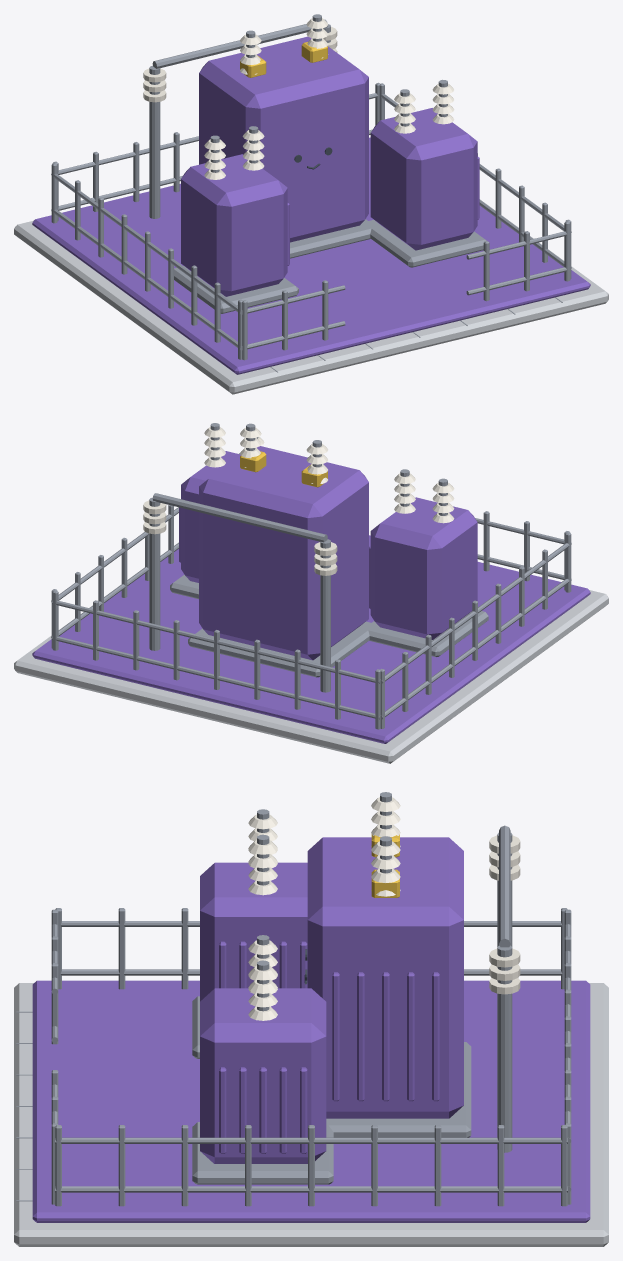
The model's file is electrical.glb.
3 views of the same model, one above another, from view 1: azimuth 30°, elevation 25°; view 2: azimuth 150°, elevation 25°; view 3: azimuth 270°, elevation 25° (orthographic). The views are drawn at different scales.
Parts seen in each view (by area): view 1: electrical; view 2: electrical; view 3: electrical.
Part boxes in pixels (x1=…): electrical: x1=14, y1=14, x2=608, y2=394; electrical: x1=14, y1=423, x2=608, y2=763; electrical: x1=14, y1=792, x2=608, y2=1246.
Bounding box in the file's own units: 8 × 4.55 × 8.
1 material, 1 textured.
